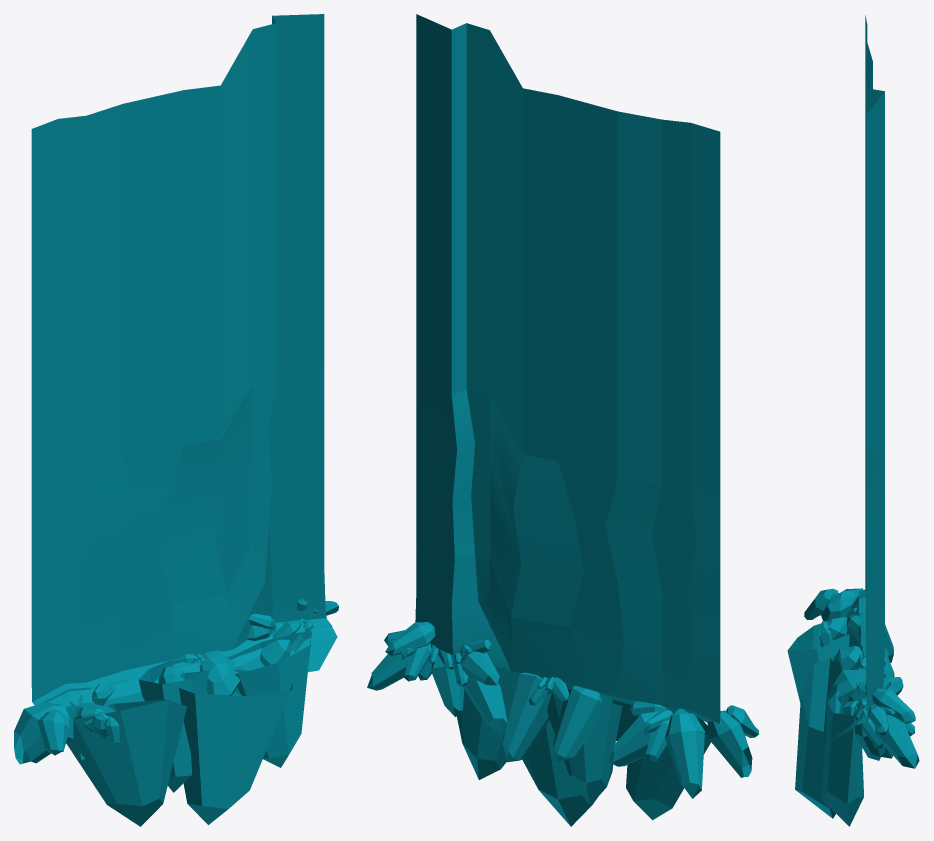
Rendered from Roof_short_step_left.fbx.
The picture shows the model from 3 angles, left to right: view 1: azimuth 30°, elevation 25°; view 2: azimuth 150°, elevation 25°; view 3: azimuth 270°, elevation 25°; orthographic projection. The views are drawn at different scales.
Parts seen in each view (by area): view 1: Roof_short_stepup; view 2: Roof_short_stepup; view 3: Roof_short_stepup.
Boxes of the visible parts, bbox=[...] form: Roof_short_stepup: bbox=[14, 14, 338, 826]; Roof_short_stepup: bbox=[367, 14, 758, 826]; Roof_short_stepup: bbox=[787, 15, 919, 826].
Size of the model in its own units: 3.91 by 8.53 by 1.32.
